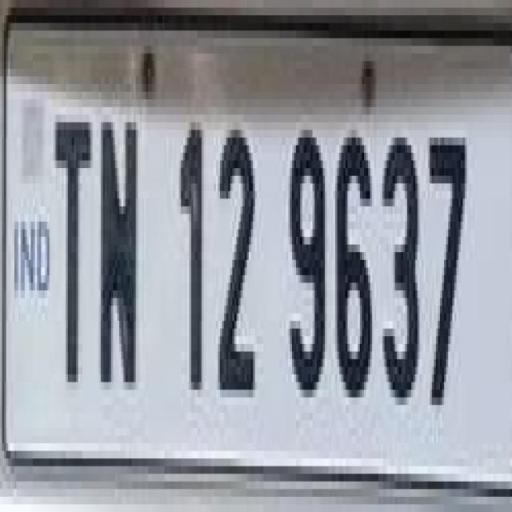number plate: (22, 15, 512, 512)
